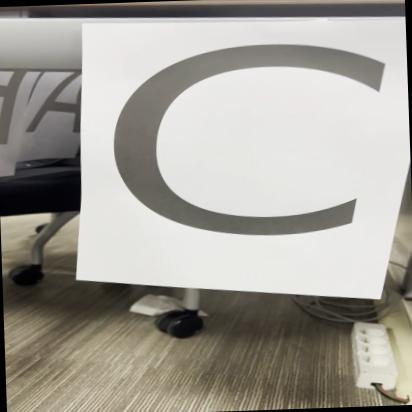seat: (85, 1, 400, 306)
